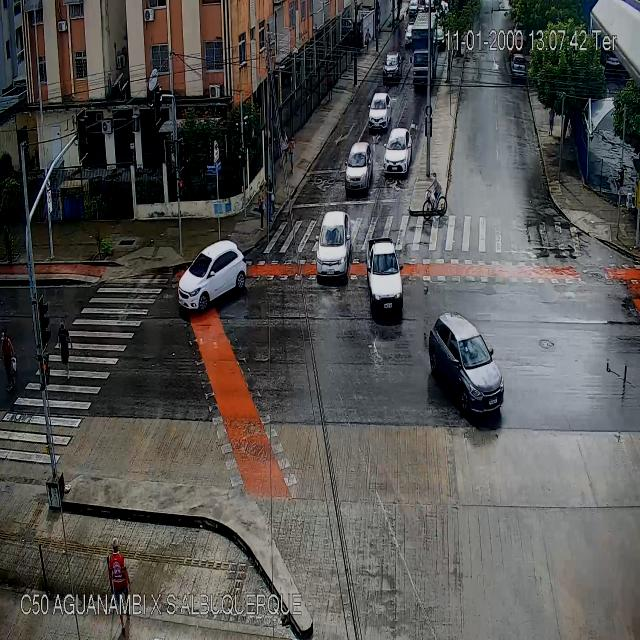Car: (428, 314, 504, 424), (178, 242, 245, 310), (366, 235, 403, 319), (314, 207, 352, 278), (384, 127, 412, 179), (345, 139, 370, 196), (368, 90, 394, 136), (383, 53, 403, 83), (510, 51, 525, 79), (434, 26, 446, 49), (404, 22, 414, 48)
Truck: (409, 13, 436, 90)
